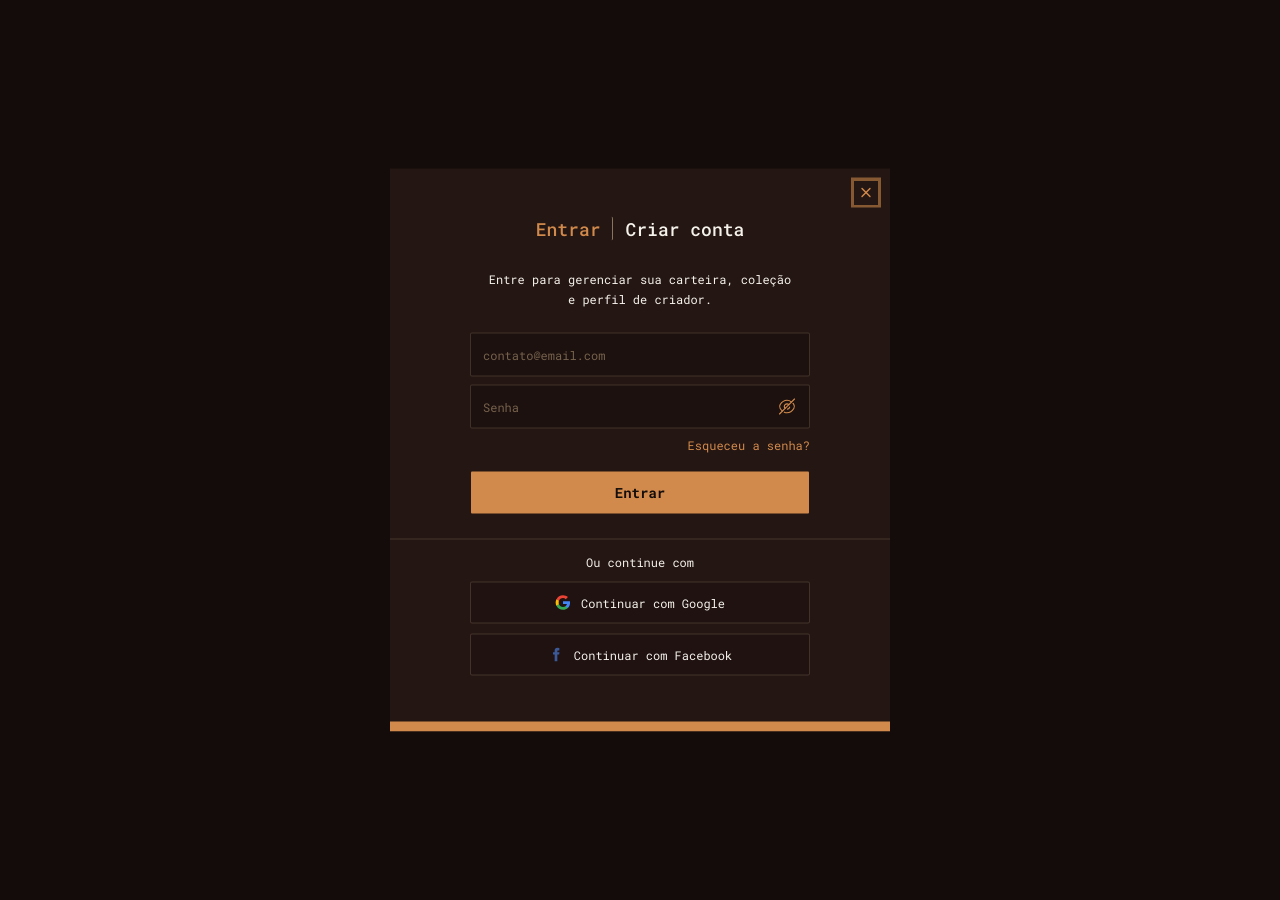
Test: AuthModal › alterna entre as abas Entrar e Criar conta
Click the tab "Criar conta".
click(683, 228)  # box [614,216,752,240]
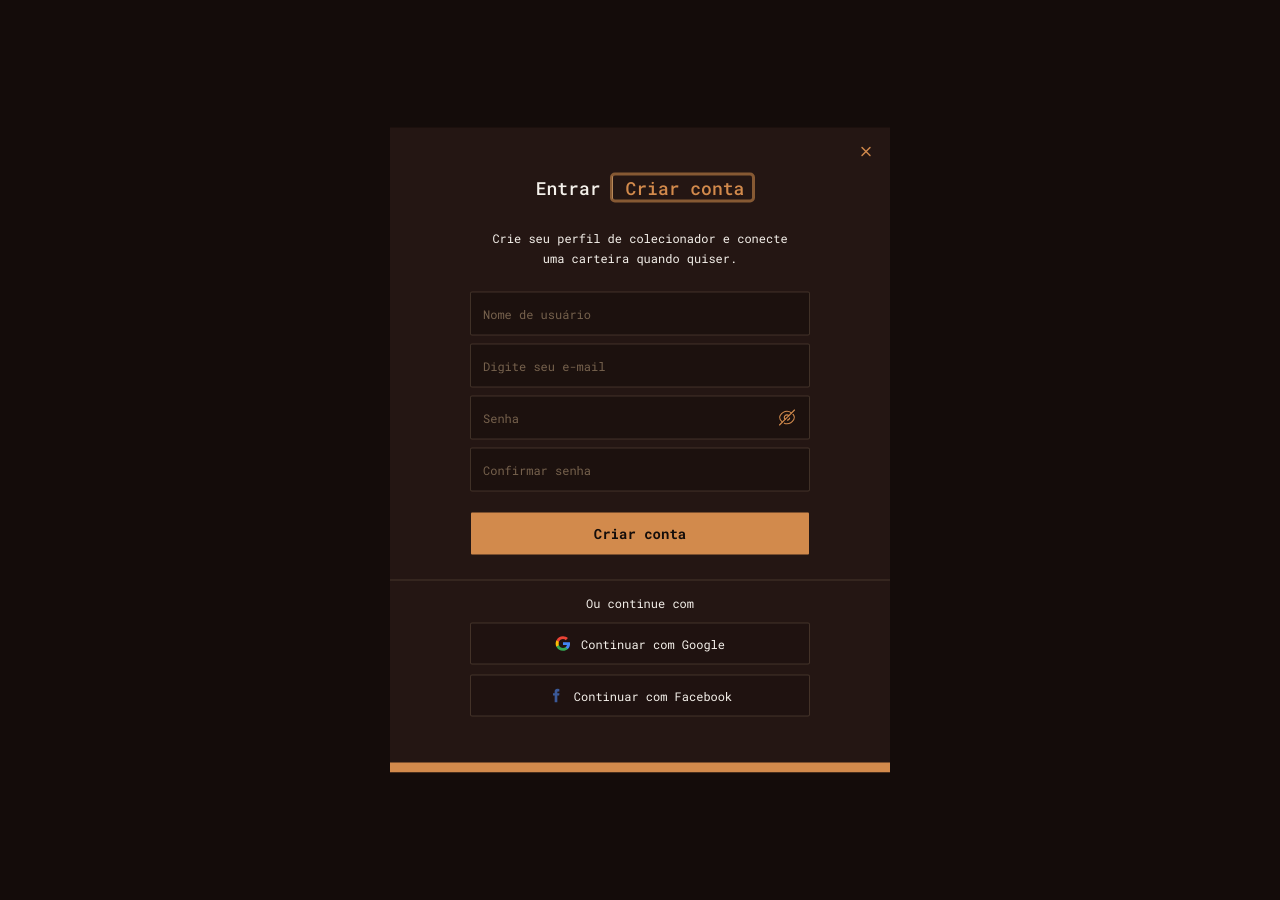
Check: the dialog "Criar conta" is shown, box [390,128,890,772]
Check: the text "Crie seu perfil de colecionador e conecte uma carteira quando quiser." is shown, box [488,228,792,268]
Click the tab "Entrar".
click(571, 188)  # box [528,176,614,200]
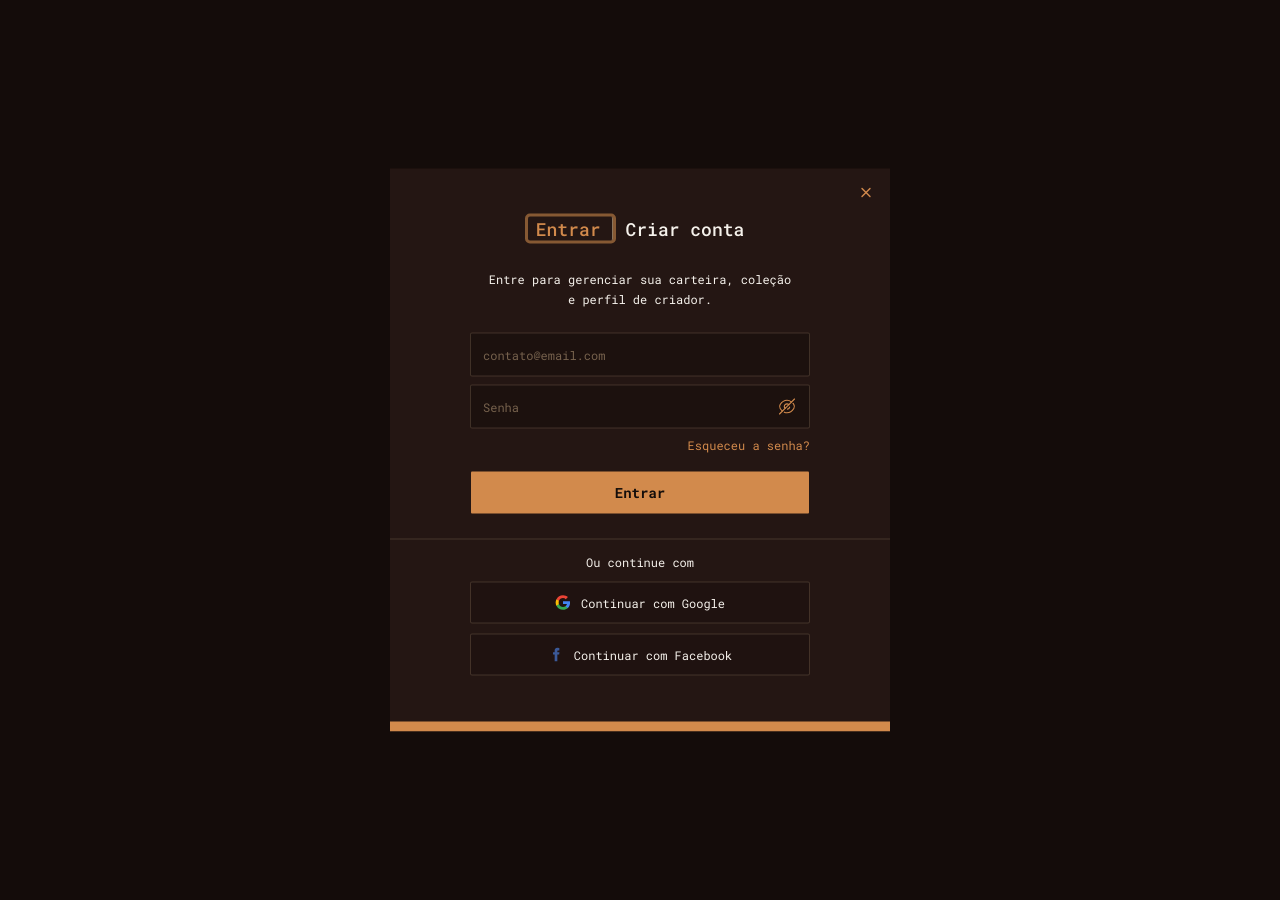
Check: the field labelled "contato@email.com" is shown, box [470,332,810,376]
